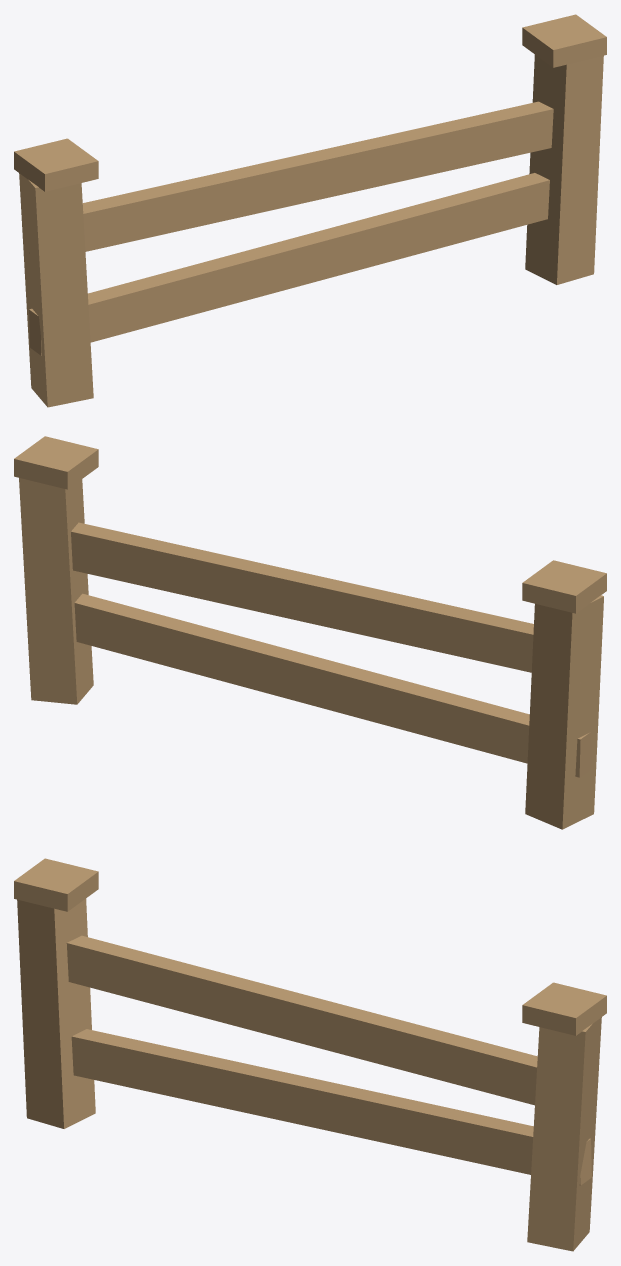
The model's file is fence.fbx.
3 renders of one model, top to bottom at view 1: azimuth 30°, elevation 25°; view 2: azimuth 150°, elevation 25°; view 3: azimuth 330°, elevation 25°, orthographic.
Visible parts, largest first — view 1: Wood_fence; view 2: Wood_fence; view 3: Wood_fence.
Part boxes in pixels (bbox=[...]): Wood_fence: bbox=[14, 14, 606, 407]; Wood_fence: bbox=[14, 436, 606, 829]; Wood_fence: bbox=[14, 858, 606, 1251].
Bounding box in the file's own units: 4.03 × 1.62 × 0.38.
